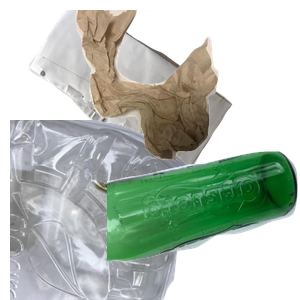glass: (107, 149, 300, 300)
paper: (27, 10, 252, 187)
plastic: (10, 120, 197, 300)
trash: (73, 10, 300, 163)
